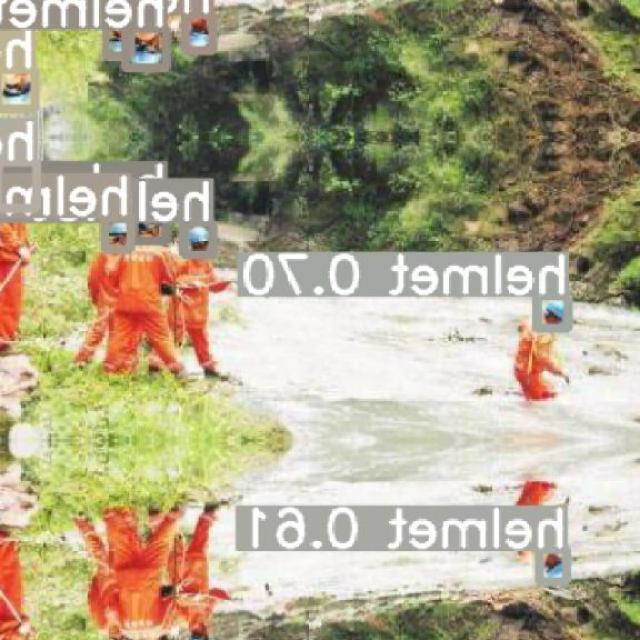helmet: (190, 226, 210, 242)
